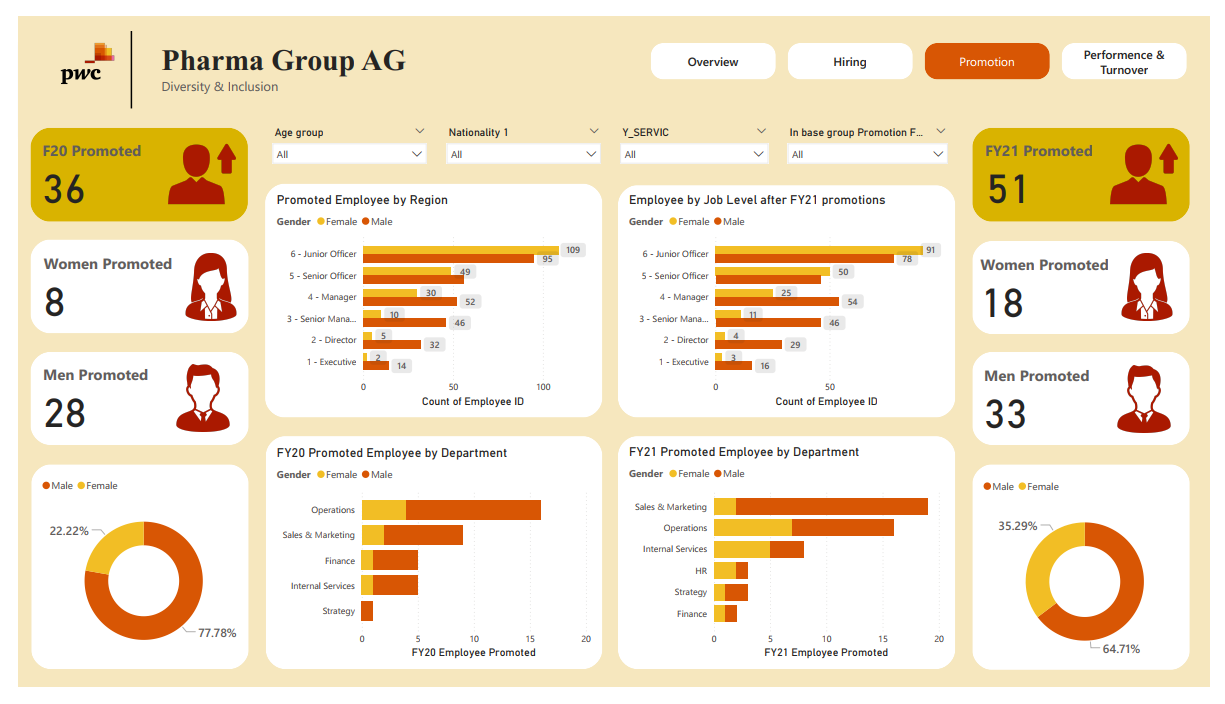

The page's visual inventory and layout, read from the dashboard file:
{"tool":"powerbi","page":{"name":"Promotion","canvas":[1600,900],"ordinal":2},"visuals":[{"type":"shape","box":[1281.7,601.3,292.4,275.9],"z":0},{"type":"shape","box":[17.7,601.3,292.4,274.7],"z":1000},{"type":"shape","box":[805.8,563,453.2,313.3],"z":2000},{"type":"shape","box":[332.5,224.4,452.3,313.7],"z":3000},{"type":"shape","box":[332.9,563,452,313.3],"z":4000},{"type":"shape","box":[805.9,225.6,453.5,312.5],"z":5000},{"type":"image","box":[33.8,8.8,120,106.2],"z":6000},{"type":"textbox","title":"Pharma Group AG","box":[188.4,34.9,345.3,70.9],"z":7000},{"type":"shape","box":[102.3,18.6,101.2,104.7],"z":8000},{"type":"donutChart","title":"Promoted Employees by Gender","fields":{"Y":["_Measures Table.Emplyee Promoted"],"Category":["Pharma Group AG.Gender"]},"box":[1291.1,609.8,283.9,268],"z":9000},{"type":"shape","box":[17.4,450.2,292.4,125.3],"z":10000},{"type":"shape","box":[17.4,299.3,292.4,125.3],"z":11000},{"type":"shape","box":[17.4,148.5,292,126.5],"z":12000},{"type":"shape","box":[1282.1,450.2,292.4,125.3],"z":13000},{"type":"shape","box":[1282.1,300.5,292.4,125.3],"z":14000},{"type":"shape","box":[1282.1,148.5,292.4,126.5],"z":15000},{"type":"cardVisual","fields":{"Data":["_Measures Table.Female Promoted"]},"box":[1275.6,301.1,303.6,124.6],"z":16000},{"type":"cardVisual","fields":{"Data":["_Measures Table.Male Promoted"]},"box":[1280.9,449.7,293,126],"z":17000},{"type":"cardVisual","fields":{"Data":["_Measures Table.Emplyee Promoted"]},"box":[1281.6,148,292.5,126.9],"z":18000},{"type":"barChart","title":"FY20 Promoted Employee  by Department","fields":{"Category":["Pharma Group AG.Department @01.07.2020"],"Series":["Pharma Group AG.Gender"],"Y":["_Measures Table.FY20 Employee Promoted"]},"box":[343.4,574.6,431.2,292.5],"z":19000},{"type":"clusteredBarChart","title":"Promoted Employee by Region","fields":{"Category":["Pharma Group AG.Job Level after FY20 promotions"],"Series":["Pharma Group AG.Gender"],"Y":["CountNonNull(Pharma Group AG.Employee ID)"]},"box":[343,234.9,431.1,293.7],"z":20000},{"type":"slicer","fields":{"Values":["Pharma Group AG.In base group for Promotion FY21"]},"box":[1024.4,142.1,234.9,69.3],"z":21000},{"type":"barChart","title":"FY21 Promoted Employee  by Department","fields":{"Category":["Pharma Group AG.Department @01.07.2020"],"Series":["Pharma Group AG.Gender"],"Y":["_Measures Table.Employee Promoted"]},"box":[816.4,574.4,432.3,292.5],"z":22000},{"type":"cardVisual","fields":{"Data":["_Measures Table.FY20 Female Promoted"]},"box":[18.2,299.8,303.6,124.6],"z":23000},{"type":"cardVisual","fields":{"Data":["_Measures Table.FY20 Male Promoted"]},"box":[16.8,449.5,293,126],"z":24000},{"type":"cardVisual","fields":{"Data":["_Measures Table.F20 Employee Promoted"]},"box":[16.4,148,292.5,125.7],"z":25000},{"type":"donutChart","title":"Promoted Employees by Gender","fields":{"Y":["_Measures Table.FY20 Employee Promoted"],"Category":["Pharma Group AG.Gender"]},"box":[27.3,608.7,283.9,268],"z":26000},{"type":"clusteredBarChart","title":"Employee by Job Level after FY21 promotions","fields":{"Category":["Pharma Group AG.Job Level after FY21 promotions"],"Series":["Pharma Group AG.Gender"],"Y":["CountNonNull(Pharma Group AG.Employee ID)"]},"box":[816.4,234.9,431.1,293.7],"z":27000},{"type":"slicer","fields":{"Values":["Pharma Group AG.Nationality 1"]},"box":[565.8,142.1,226.7,69.3],"z":28000},{"type":"slicer","fields":{"Values":["Backing 1.Y_SERVIC"]},"box":[799.2,142.1,218.5,69.3],"z":29000},{"type":"slicer","fields":{"Values":["Pharma Group AG.Age group"]},"box":[332.5,142.1,226.7,69.3],"z":30000},{"type":"pageNavigator","box":[849.6,34.8,723.6,49.6],"z":31000}]}

Visuals, with their boxes in screenshot pixels (x1, y1, x2, y2), scaled from the page's 1600x900 canvas onto the 1225x704 screenshot:
shape: (x1=981, y1=470, x2=1205, y2=686)
shape: (x1=14, y1=470, x2=237, y2=685)
shape: (x1=617, y1=440, x2=964, y2=685)
shape: (x1=255, y1=176, x2=601, y2=421)
shape: (x1=255, y1=440, x2=601, y2=685)
shape: (x1=617, y1=176, x2=964, y2=421)
image: (x1=26, y1=7, x2=118, y2=90)
"Pharma Group AG" textbox: (x1=144, y1=27, x2=409, y2=83)
shape: (x1=78, y1=15, x2=156, y2=96)
"Promoted Employees by Gender" donutChart: (x1=988, y1=477, x2=1206, y2=687)
shape: (x1=13, y1=352, x2=237, y2=450)
shape: (x1=13, y1=234, x2=237, y2=332)
shape: (x1=13, y1=116, x2=237, y2=215)
shape: (x1=982, y1=352, x2=1205, y2=450)
shape: (x1=982, y1=235, x2=1205, y2=333)
shape: (x1=982, y1=116, x2=1205, y2=215)
cardVisual - _Measures Table.Female Promoted: (x1=977, y1=236, x2=1209, y2=333)
cardVisual - _Measures Table.Male Promoted: (x1=981, y1=352, x2=1205, y2=450)
cardVisual - _Measures Table.Emplyee Promoted: (x1=981, y1=116, x2=1205, y2=215)
"FY20 Promoted Employee  by Department" barChart: (x1=263, y1=449, x2=593, y2=678)
"Promoted Employee by Region" clusteredBarChart: (x1=263, y1=184, x2=593, y2=413)
slicer - Pharma Group AG.In base group for Promotion FY21: (x1=784, y1=111, x2=964, y2=165)
"FY21 Promoted Employee  by Department" barChart: (x1=625, y1=449, x2=956, y2=678)
cardVisual - _Measures Table.FY20 Female Promoted: (x1=14, y1=235, x2=246, y2=332)
cardVisual - _Measures Table.FY20 Male Promoted: (x1=13, y1=352, x2=237, y2=450)
cardVisual - _Measures Table.F20 Employee Promoted: (x1=13, y1=116, x2=237, y2=214)
"Promoted Employees by Gender" donutChart: (x1=21, y1=476, x2=238, y2=686)
"Employee by Job Level after FY21 promotions" clusteredBarChart: (x1=625, y1=184, x2=955, y2=413)
slicer - Pharma Group AG.Nationality 1: (x1=433, y1=111, x2=607, y2=165)
slicer - Backing 1.Y_SERVIC: (x1=612, y1=111, x2=779, y2=165)
slicer - Pharma Group AG.Age group: (x1=255, y1=111, x2=428, y2=165)
pageNavigator: (x1=650, y1=27, x2=1204, y2=66)
